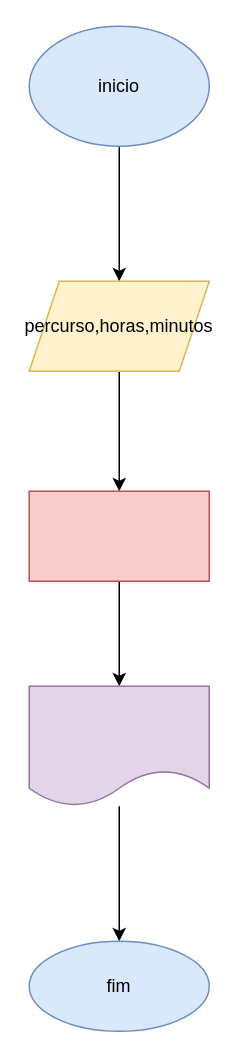
The diagram is 239 pixels wide and 1058 high, and some of its shapes have lost their labels. The shapes that lost their labels are listed below. From the top down, each one's centre as x and y in pixels, then its label:
At (x=118, y=535): "resul<-horas+(minutos/60) velmedia<-km/resul".
At (x=118, y=745): "Velocidade média".
